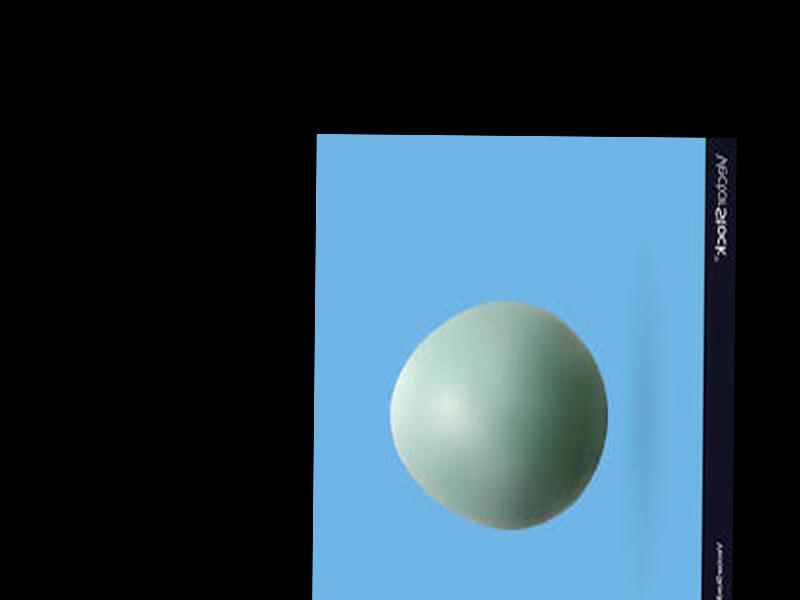Eggs: (388, 300, 607, 533)
